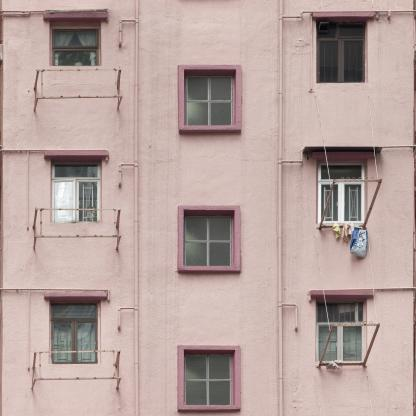Building Outline: (0, 0, 416, 416)
Cornice: (312, 11, 377, 17), (312, 152, 377, 158), (44, 151, 110, 156), (44, 13, 110, 18), (43, 292, 109, 297), (311, 290, 376, 295)
Facade: (0, 0, 416, 416)
Floor: (1, 153, 415, 285), (1, 14, 415, 144), (1, 293, 415, 416)
Floor Slab: (1, 5, 415, 14), (1, 285, 415, 294), (1, 144, 415, 153)
Window: (316, 299, 367, 362), (50, 300, 100, 364), (51, 159, 101, 223), (316, 160, 367, 222), (317, 20, 367, 83), (184, 350, 235, 405), (185, 70, 235, 125), (184, 211, 234, 266), (50, 20, 101, 66)
